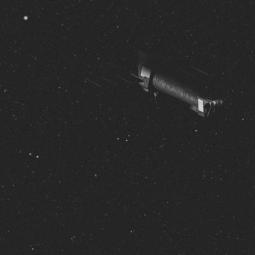xmm_newton: (99, 36, 226, 129)
